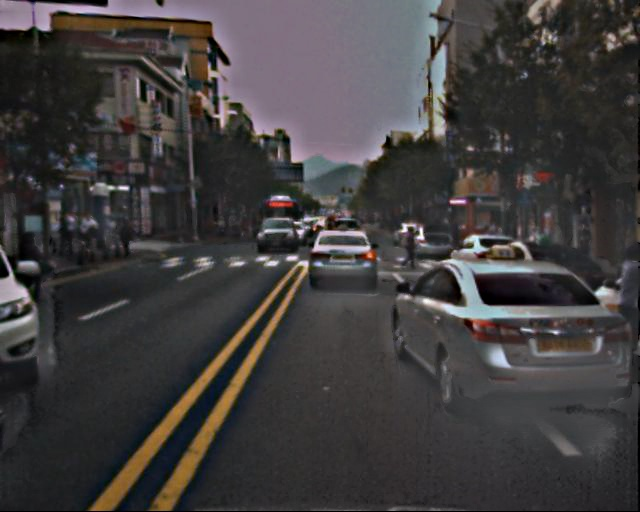person: (68, 206, 144, 256), (610, 244, 640, 366), (20, 225, 55, 301), (575, 221, 596, 273), (403, 224, 421, 269)
